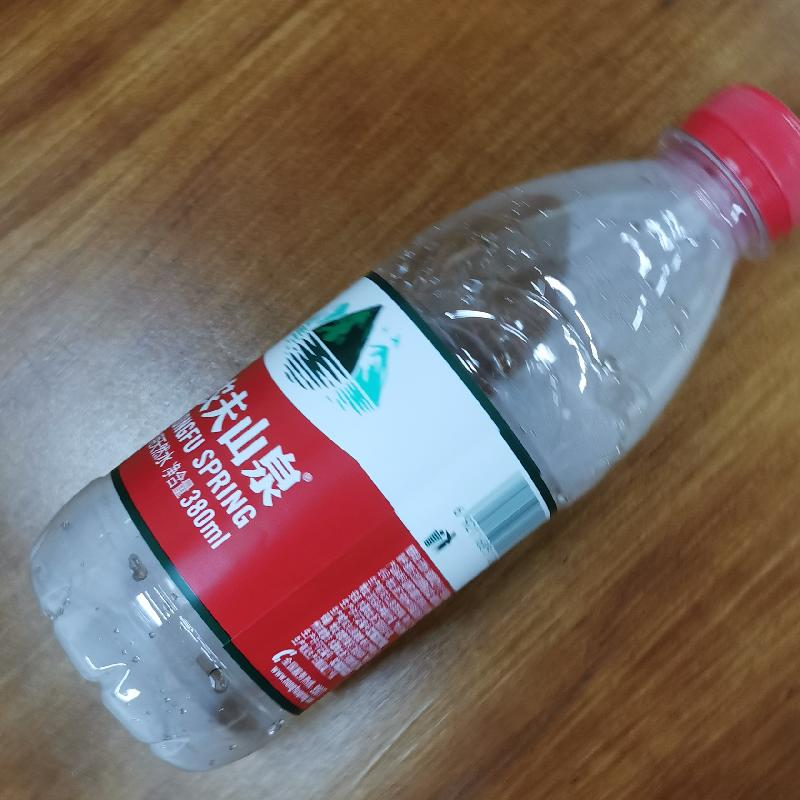bottles: (19, 81, 800, 767)
